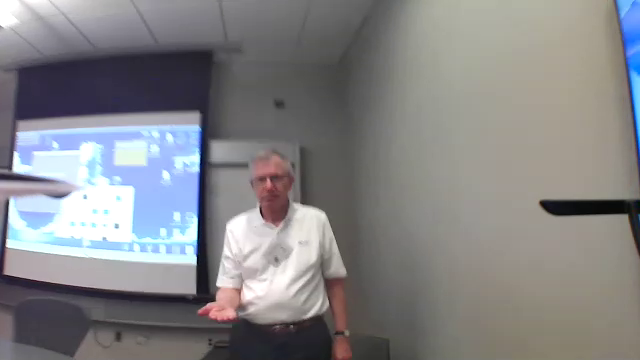land: (196, 297, 239, 325)
